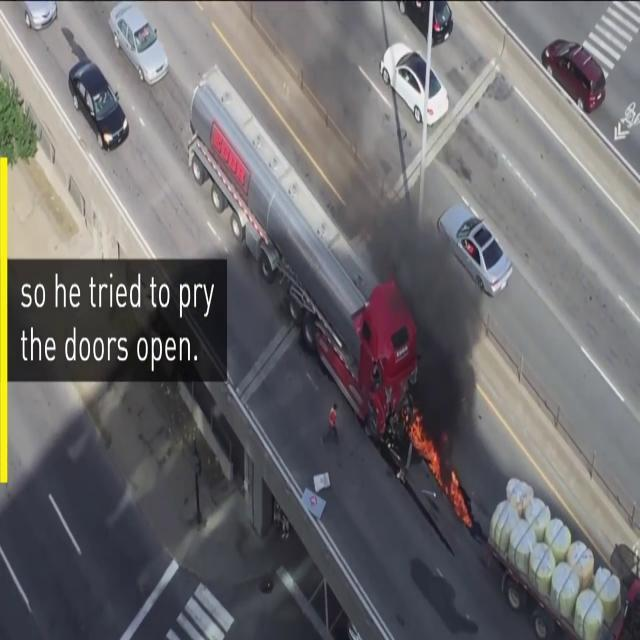Fire: (408, 404, 442, 482), (448, 463, 472, 528)
Smoke: (348, 124, 500, 514)
